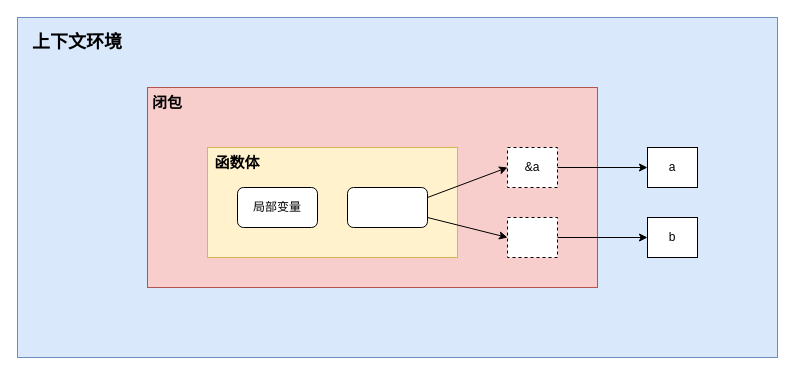
Some shapes in this 795 by 383 pixel diagram are drawn without their labels. The centre of each missing label's shape, as x and y in pixels:
"&b" belongs at point 532,237.
"自由变量" belongs at point 387,207.
